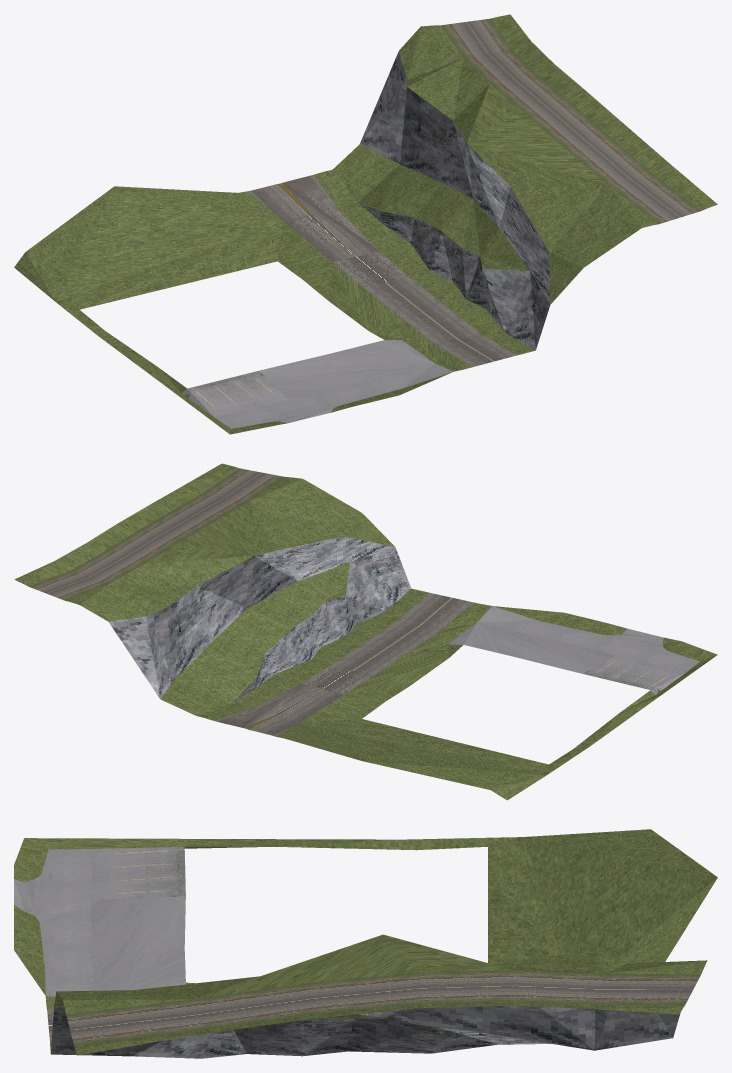
The model's file is lod_ne_bit_19.obj.
3 views of the same model, one above another, from view 1: azimuth 30°, elevation 25°; view 2: azimuth 150°, elevation 25°; view 3: azimuth 270°, elevation 25° (orthographic). The views are drawn at different scales.
Parts seen in each view (by area): view 1: lod_ne_bit_19; view 2: lod_ne_bit_19; view 3: lod_ne_bit_19.
Part boxes in pixels (box(x1,y1,x2,y2)): lod_ne_bit_19: box(14, 14, 717, 434); lod_ne_bit_19: box(14, 463, 717, 800); lod_ne_bit_19: box(14, 829, 717, 1058).
Size of the model in its own units: 134 by 32.03 by 114.
8 materials, 8 textured.
